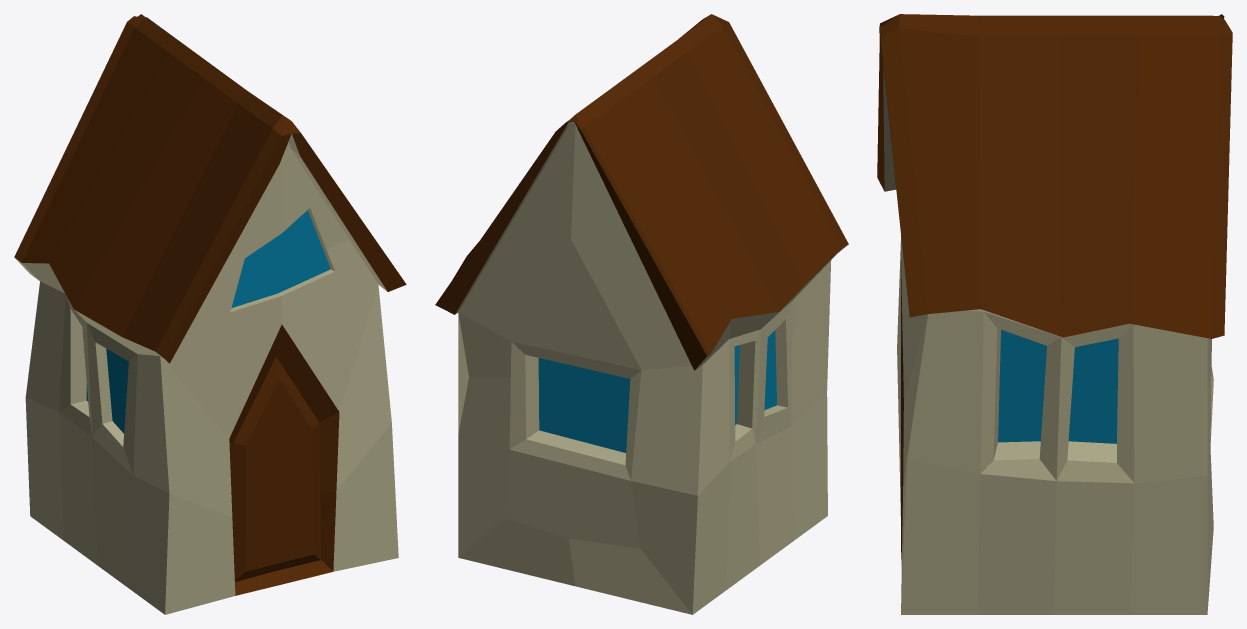
Rendered from House_V2.fbx.
3 renders of one model, left to right at view 1: azimuth 30°, elevation 25°; view 2: azimuth 150°, elevation 25°; view 3: azimuth 270°, elevation 25°, orthographic. The views are drawn at different scales.
Visible parts, largest first — view 1: Cube; view 2: Cube; view 3: Cube.
Part boxes in pixels (x1,y1,x2,y2): Cube: [14, 14, 406, 614]; Cube: [435, 14, 848, 614]; Cube: [877, 14, 1232, 614].
Size of the model in its own units: 2.42 by 3.86 by 2.32.
